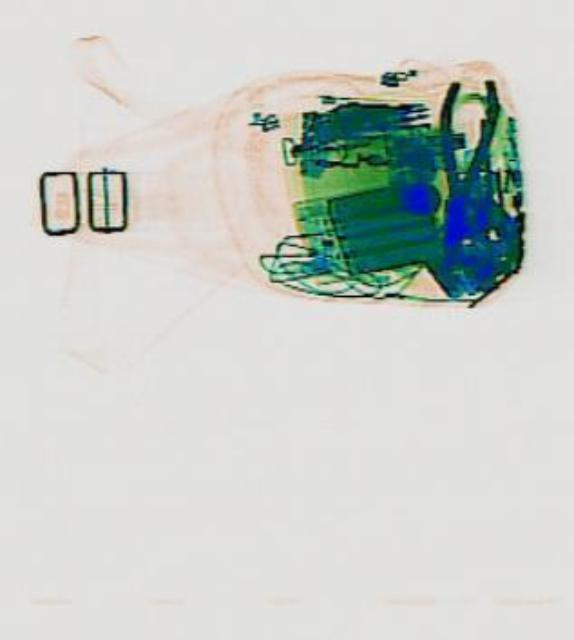Pliers: (413, 69, 500, 255)
